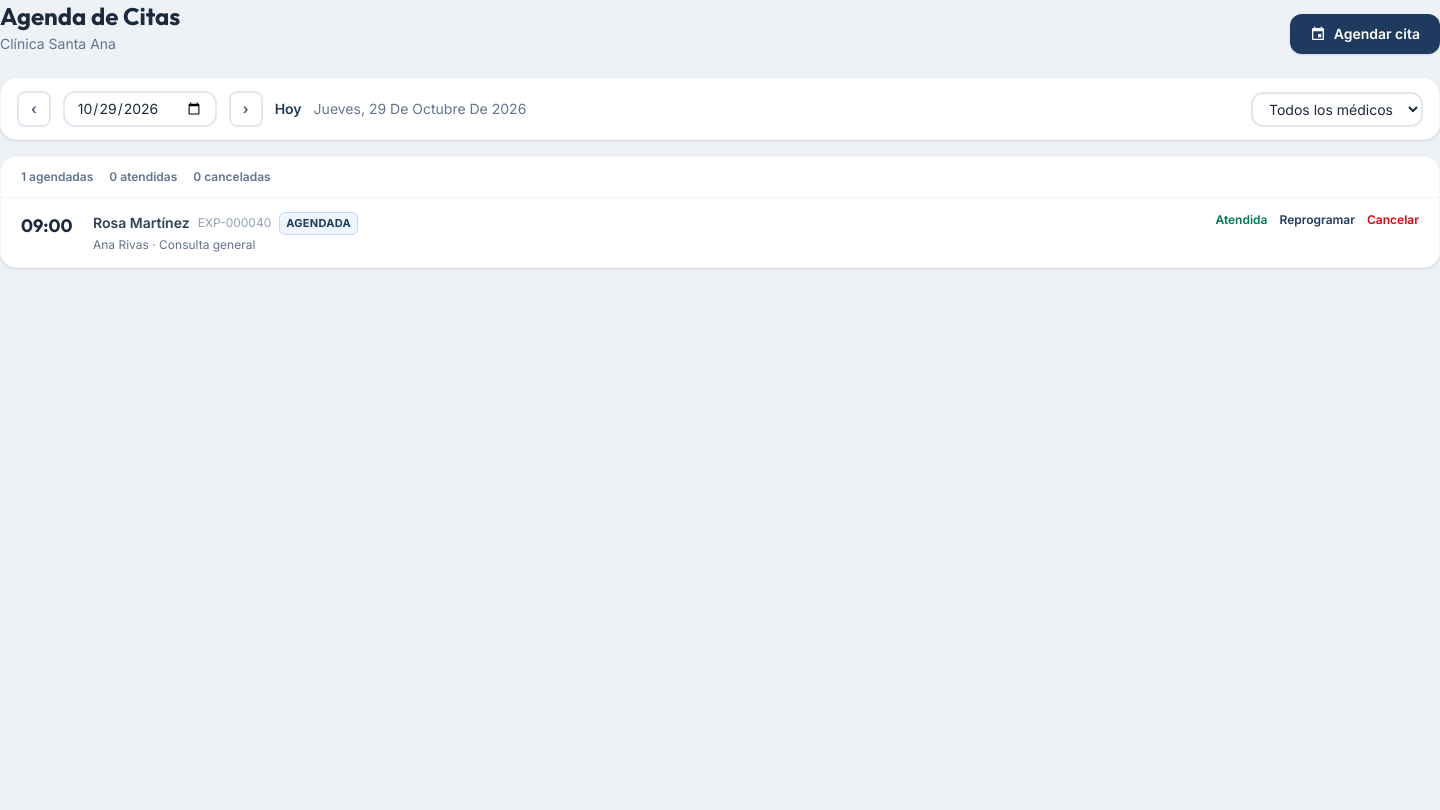
agenda · cancelar (HU-32) › c1 y c5: cancelar exige motivo y la cita sigue en la lista, cancelada y con su motivo
This screenshot has width=1440, height=810.
Click the button "Cancelar".
click(1393, 220)  # box x1=1367 y1=212 x2=1419 y2=228
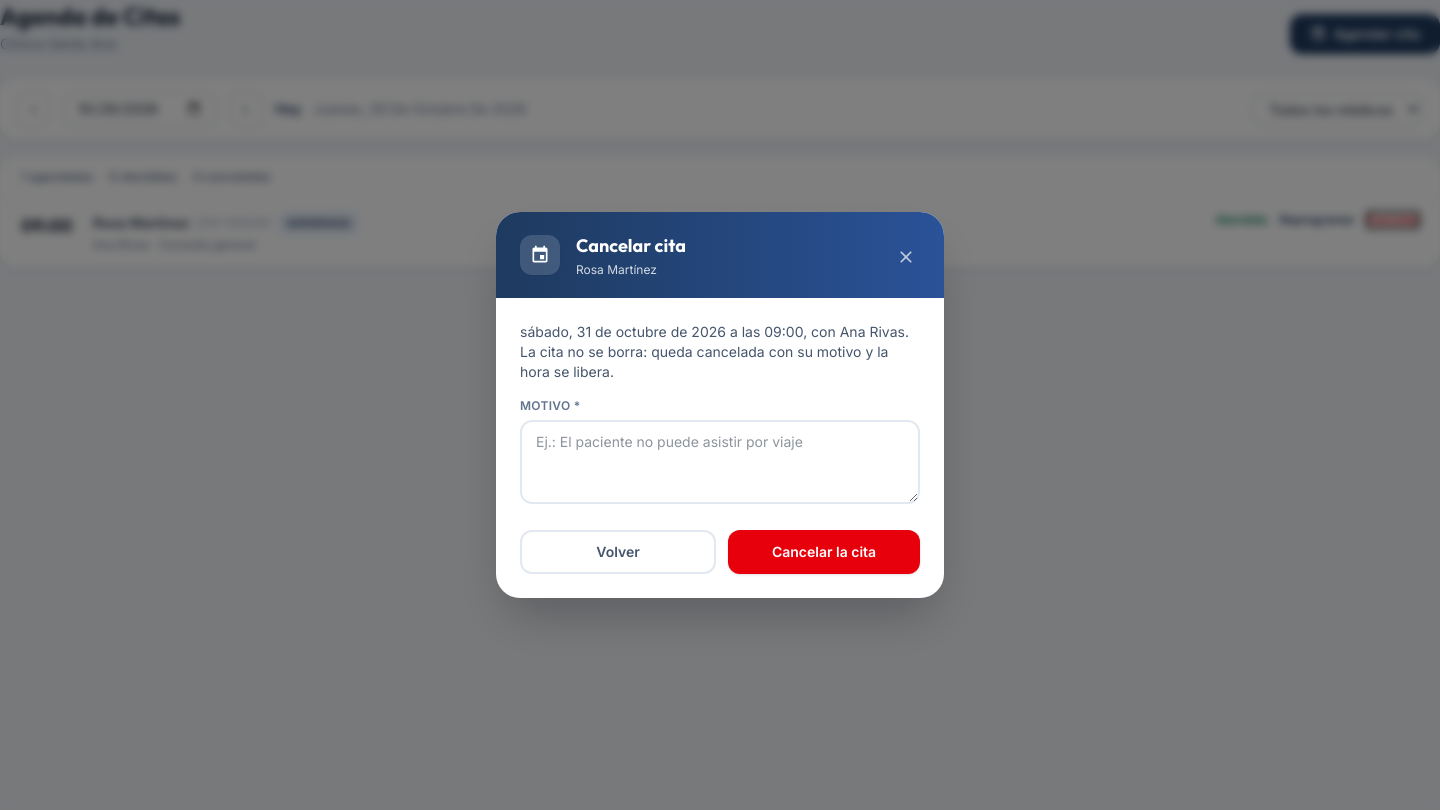
Click the button "Cancelar la cita".
click(824, 552)  # box x1=728 y1=530 x2=920 y2=574
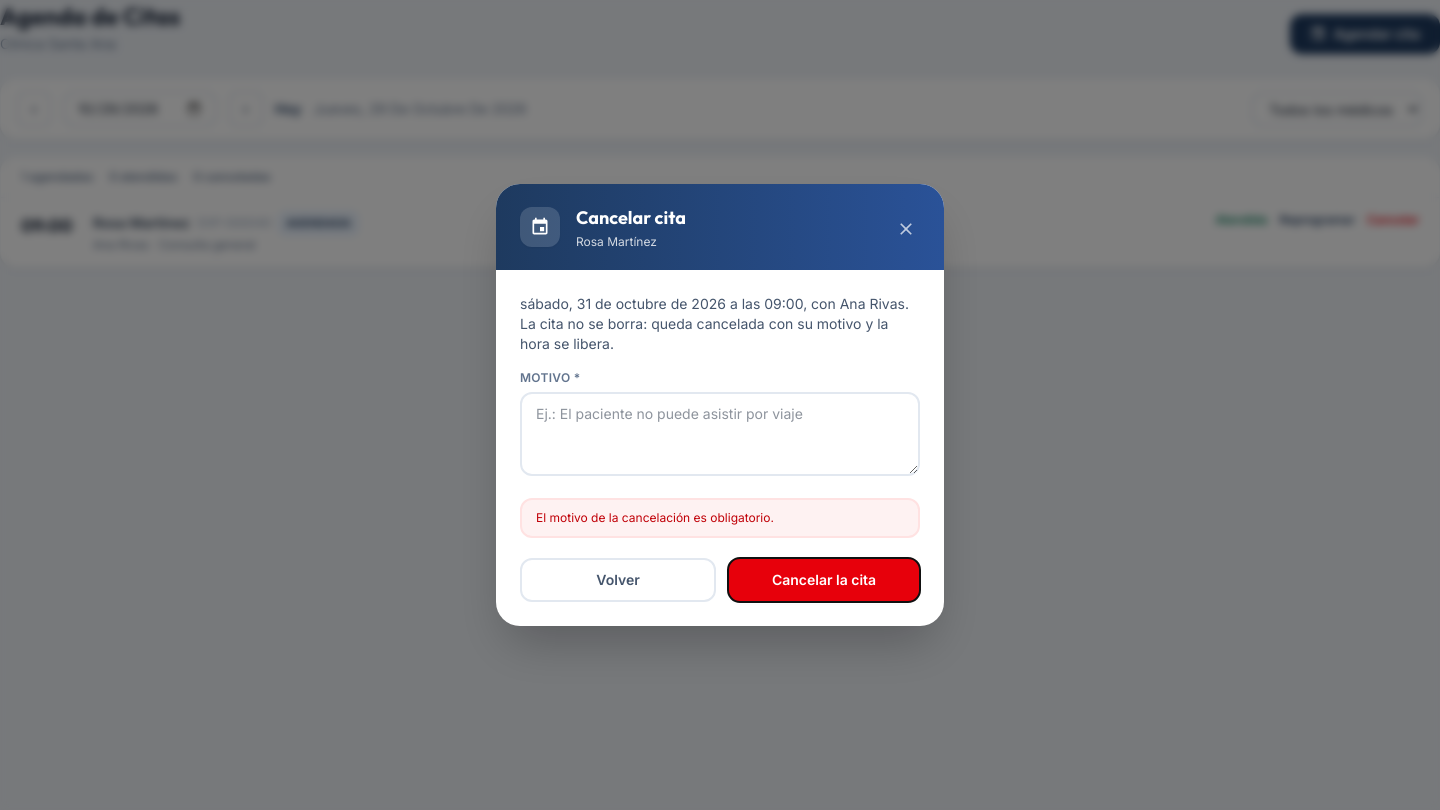
expect the message reads "El motivo de la cancelación es obligatorio.": met, box x1=536 y1=510 x2=774 y2=525
Type "Viaje" into the text box labelled "Motivo *".
click(720, 434); type("Viaje")  # box x1=520 y1=392 x2=920 y2=476
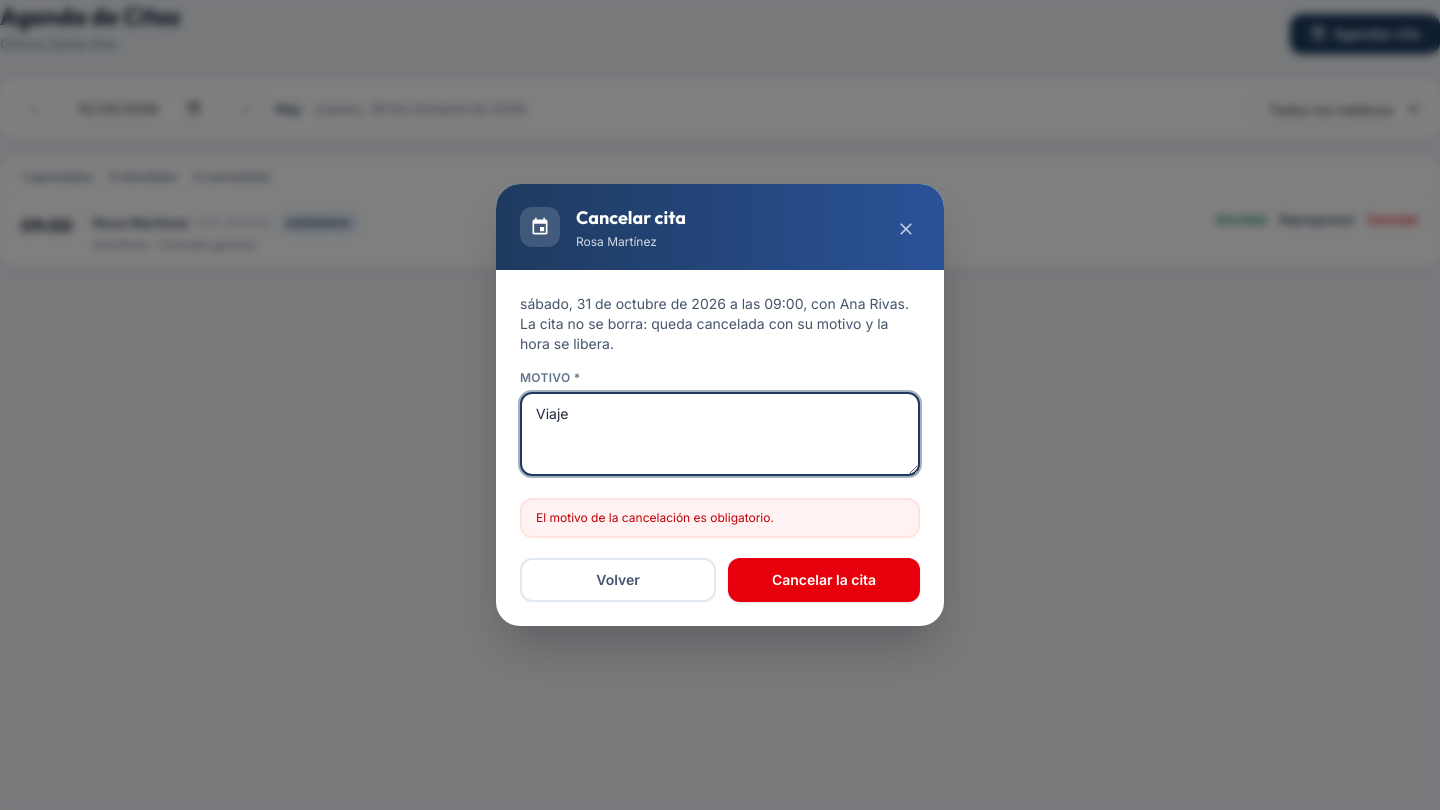
Click the button "Cancelar la cita".
click(824, 580)  # box x1=728 y1=558 x2=920 y2=602
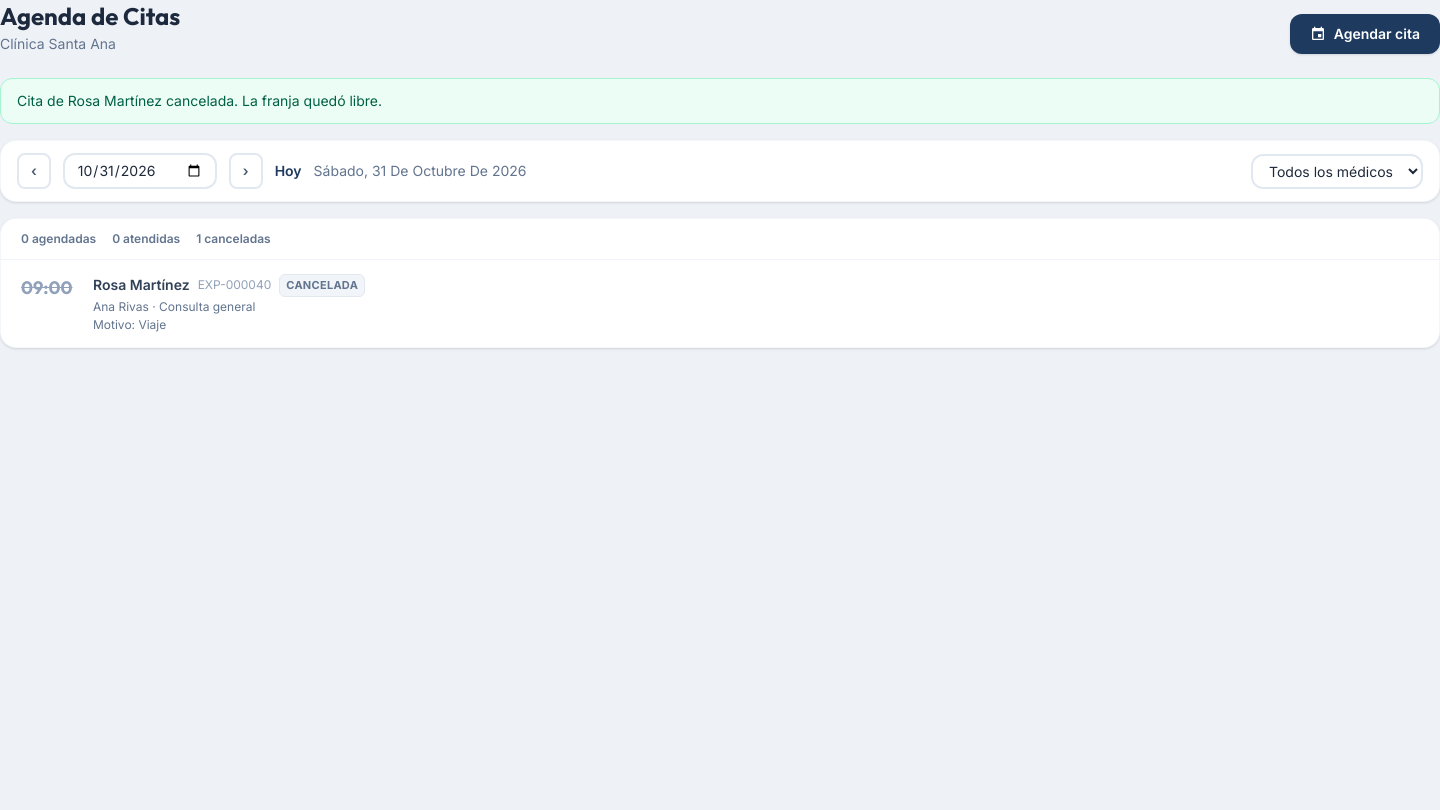
expect the text "Cancelada" is shown: met, box x1=279 y1=274 x2=365 y2=296
expect the text "Motivo: Viaje" is shown: met, box x1=93 y1=316 x2=166 y2=332
